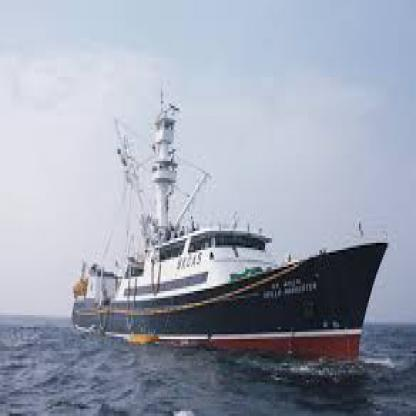fish-b: (69, 86, 398, 372)
